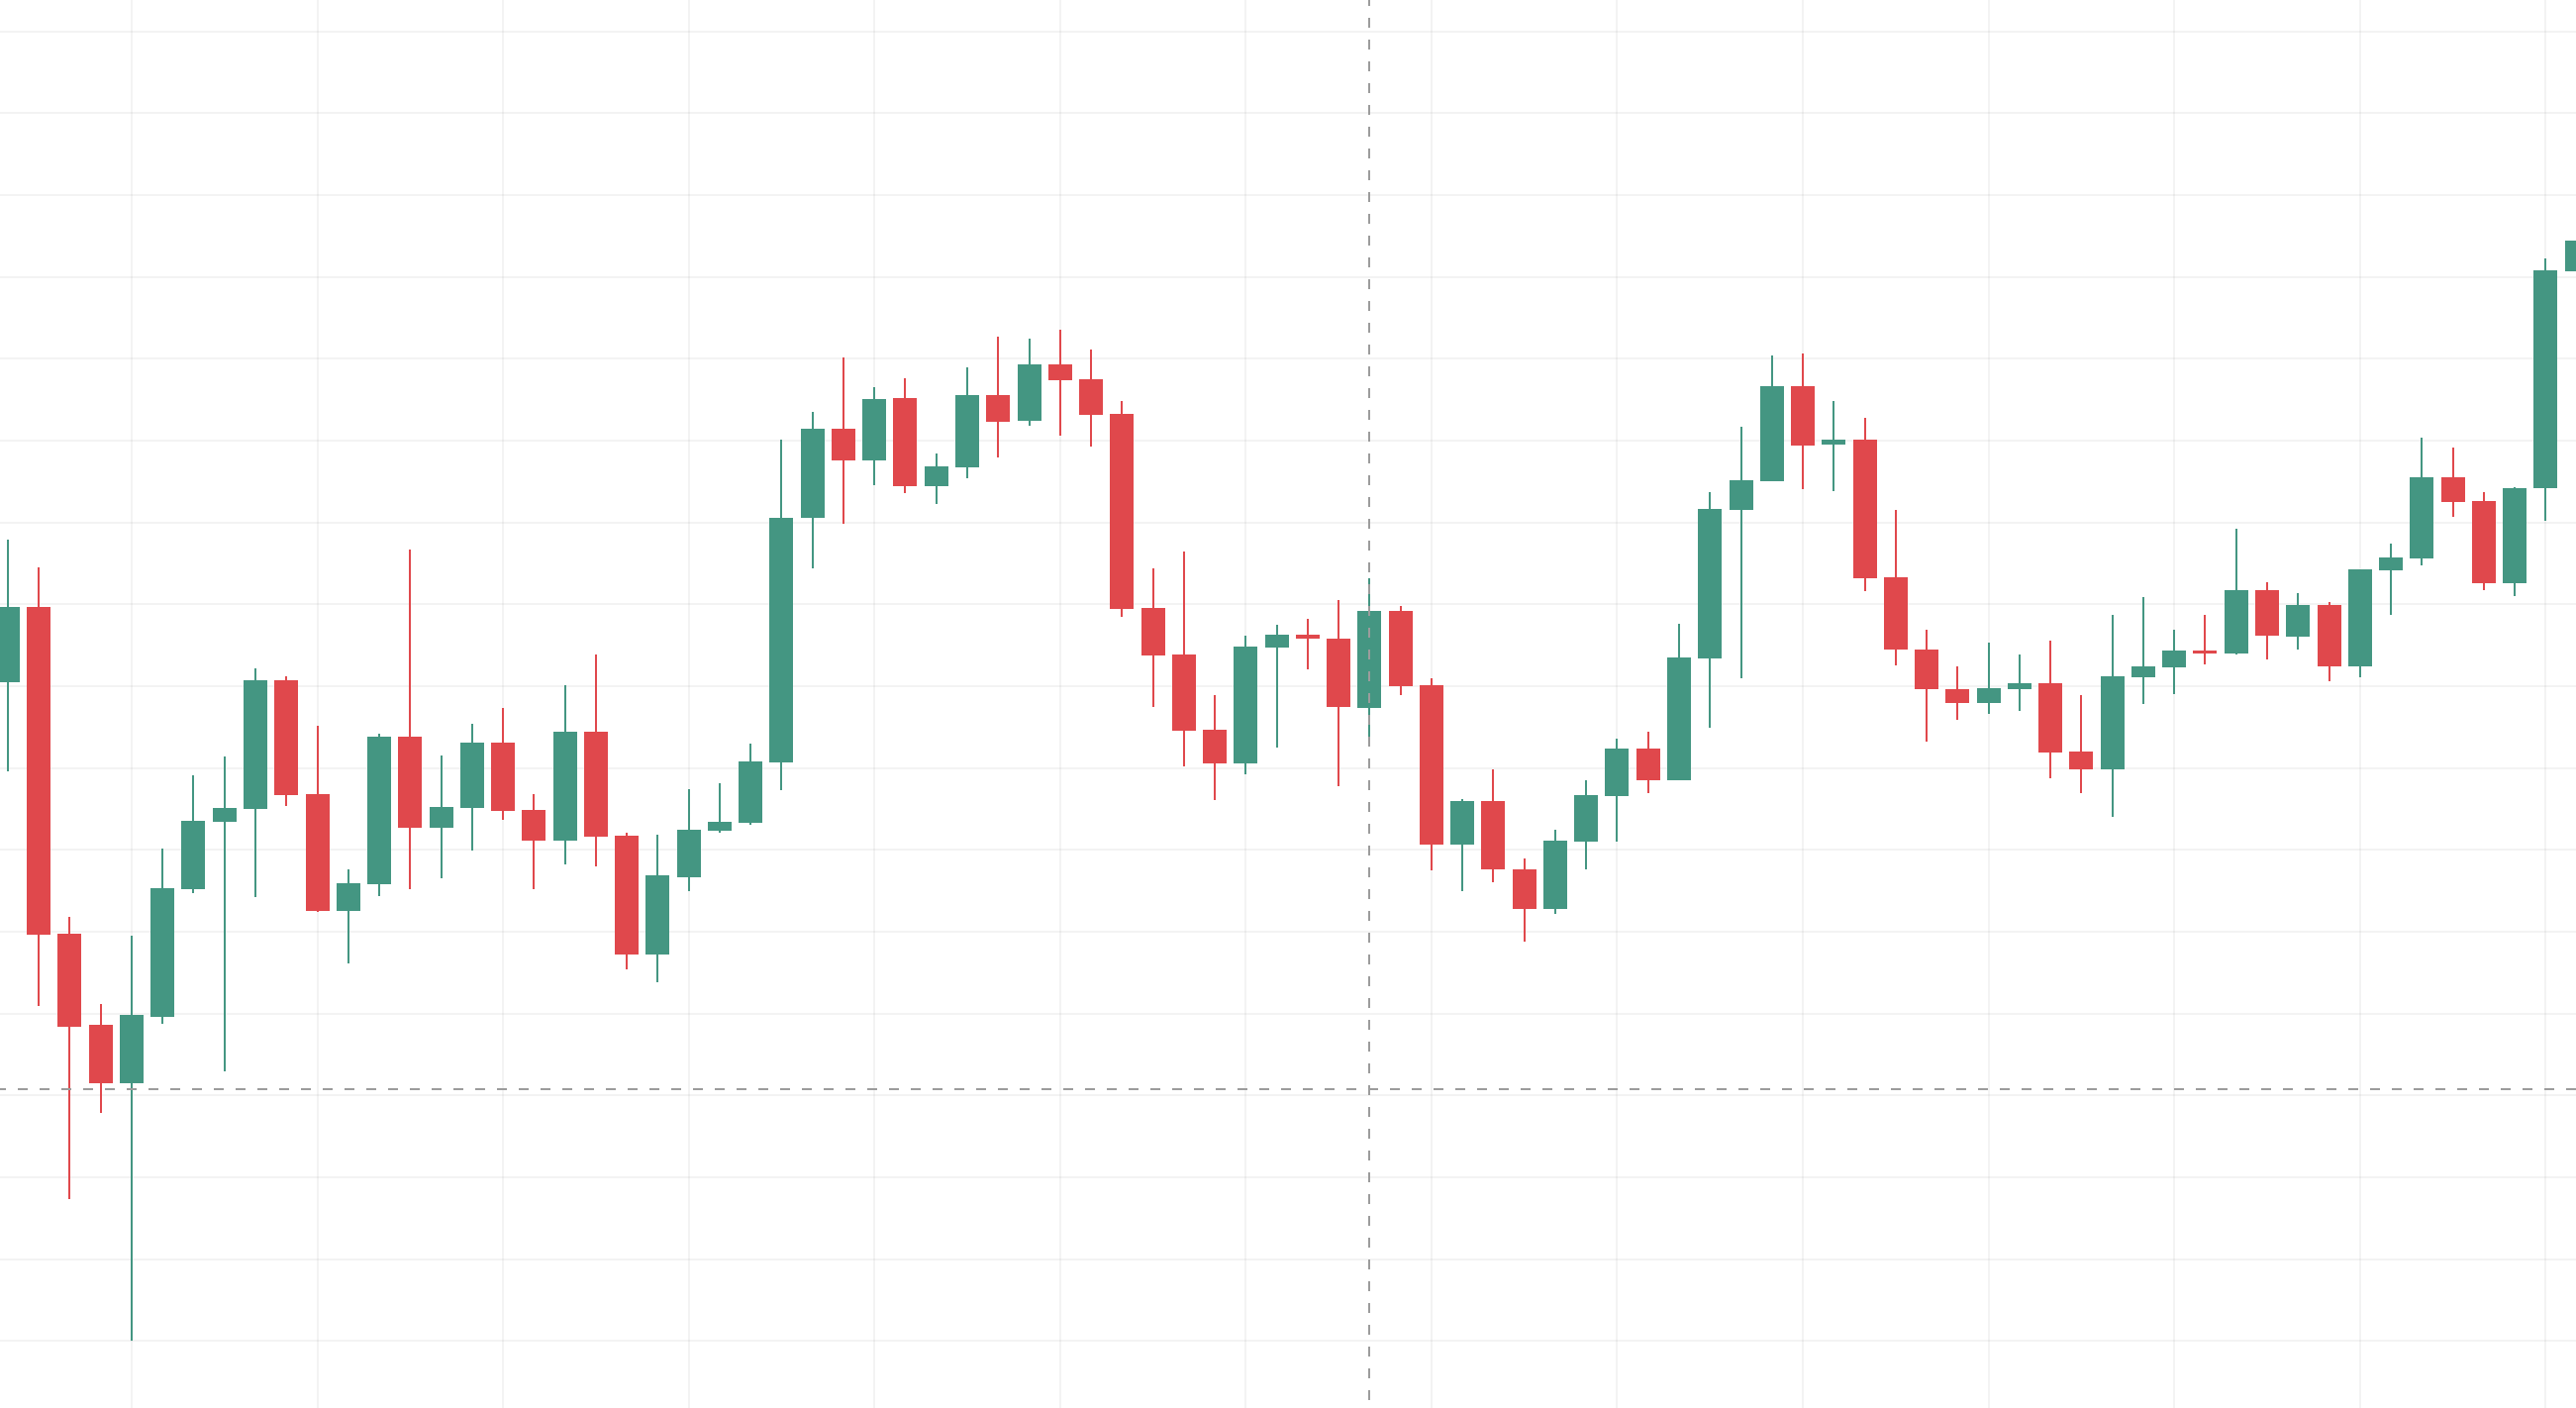V-turn: (1056, 271, 1624, 999), (21, 399, 227, 1385)
